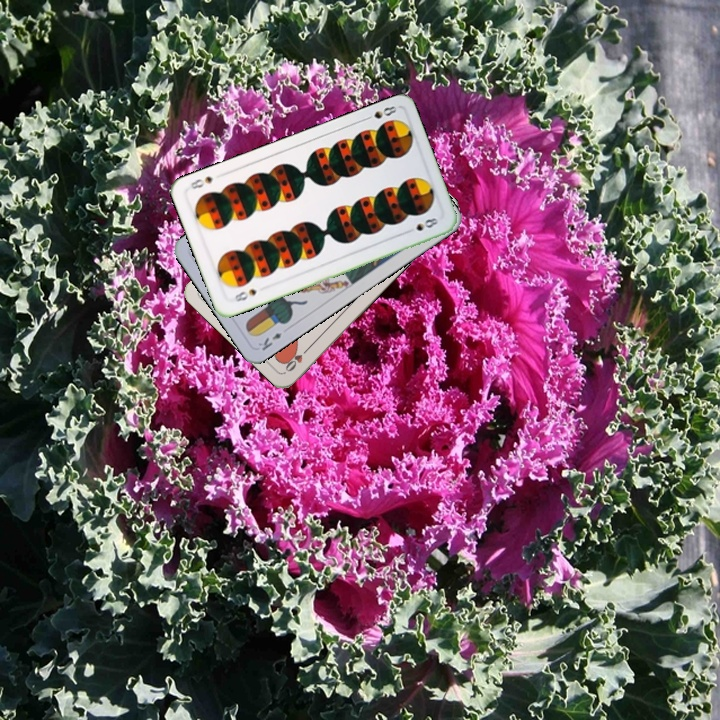EK: (254, 328, 284, 353)
HO: (281, 342, 313, 374)
S8: (360, 102, 399, 123), (228, 285, 259, 305)
